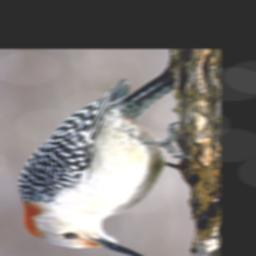Woodpecker: (17, 77, 190, 256)
